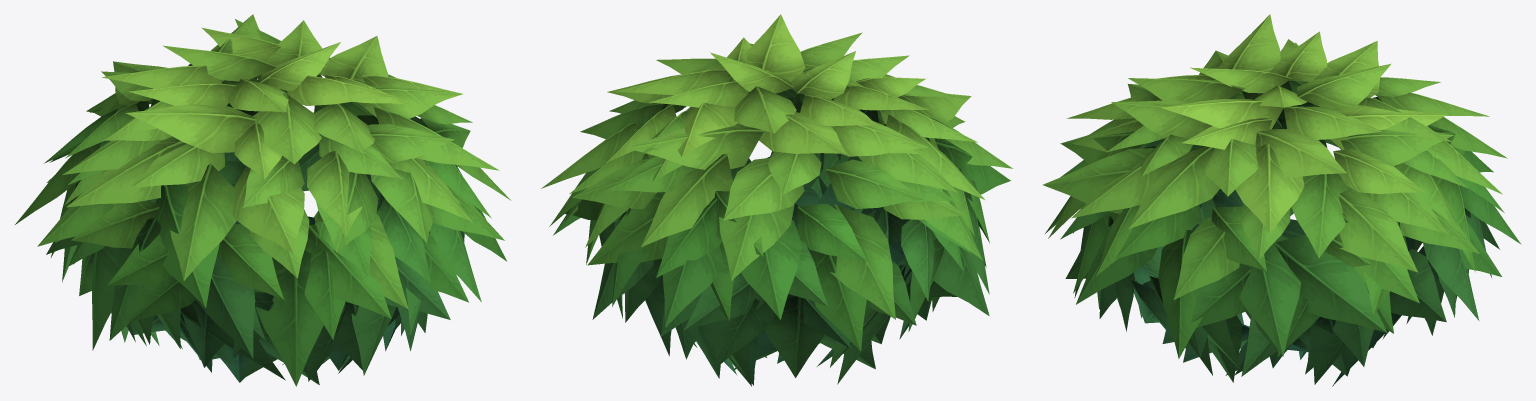
File: leafbush_v2.glb
3 renders of one model, left to right at view 1: azimuth 30°, elevation 25°; view 2: azimuth 150°, elevation 25°; view 3: azimuth 270°, elevation 25°, orthographic. The views are drawn at different scales.
Parts seen in each view (by area): view 1: leafbush_v2_leaves_LOD0; view 2: leafbush_v2_leaves_LOD0; view 3: leafbush_v2_leaves_LOD0.
Part boxes in pixels (bbox=[...]): leafbush_v2_leaves_LOD0: bbox=[15, 14, 511, 386]; leafbush_v2_leaves_LOD0: bbox=[541, 14, 1013, 386]; leafbush_v2_leaves_LOD0: bbox=[1043, 14, 1521, 386].
Size of what is drawn, in the model's own units: 1.42 by 0.9701 by 1.46.
1 material, 1 textured.
